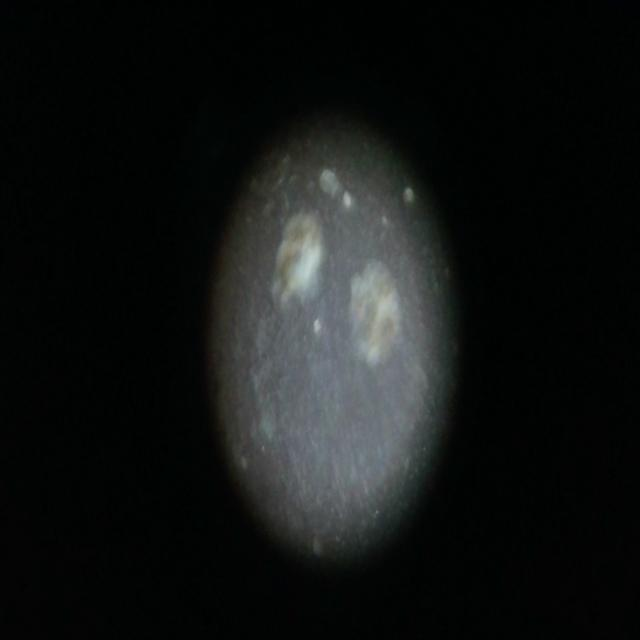alexandrium: (274, 203, 332, 323), (347, 248, 402, 361)
